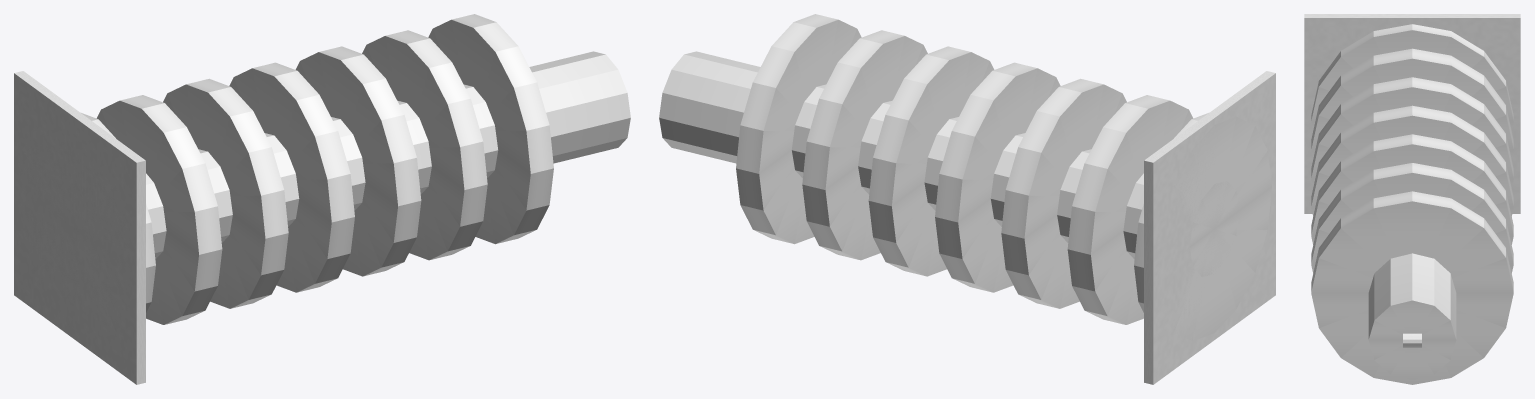
The model's file is lineinsulator230000.obj.
The picture shows the model from 3 angles, left to right: view 1: azimuth 30°, elevation 25°; view 2: azimuth 150°, elevation 25°; view 3: azimuth 270°, elevation 25°; orthographic projection. The views are drawn at different scales.
Visible parts, largest first — view 1: Porcelain, main; view 2: Porcelain, main; view 3: Porcelain, main, Clamp.
Boxes of the visible parts, x1,y1,x2,y2 form: Porcelain: [19, 14, 630, 336]; main: [14, 71, 145, 384]; Porcelain: [659, 14, 1271, 341]; main: [1144, 71, 1275, 384]; Porcelain: [1311, 24, 1513, 384]; main: [1304, 14, 1520, 213]; Clamp: [1403, 333, 1421, 347].
Bounding box in the file's own units: 2.03 × 0.8 × 0.8.
